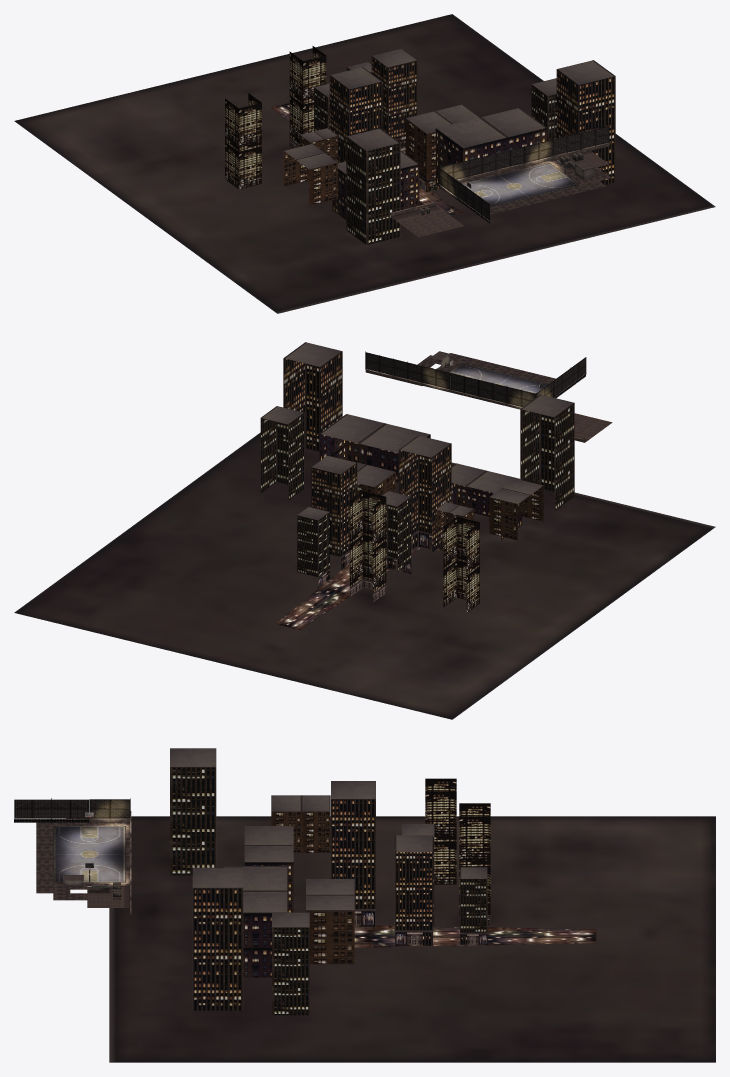
The model's file is court_newyork_mesh.fbx.
The picture shows the model from 3 angles, top to bottom: view 1: azimuth 30°, elevation 25°; view 2: azimuth 150°, elevation 25°; view 3: azimuth 270°, elevation 25°; orthographic projection. The views are drawn at different scales.
Visible parts, largest first — view 1: court_newyork_mesh; view 2: court_newyork_mesh; view 3: court_newyork_mesh.
Boxes of the visible parts, x1,y1,x2,y2 form: court_newyork_mesh: (14,14,715,313); court_newyork_mesh: (14,342,715,719); court_newyork_mesh: (14,748,715,1062).
Bounding box in the file's own units: 419 × 115 × 505.
